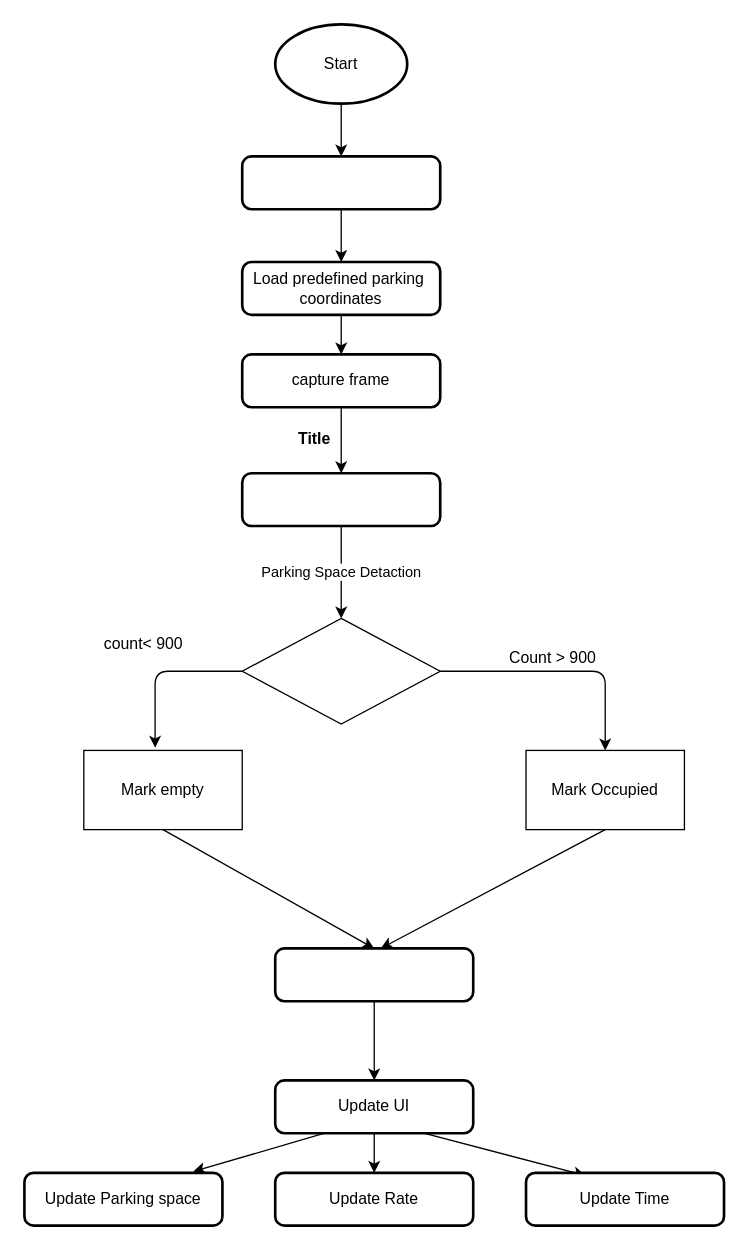
Image size: 747x1249. Some labels were removed from this diagram. Each missing label, with the centre of its shape:
"Camera connection" belongs at (340,182).
"CheckOccupancy" belongs at (340,670).
"processed each frame" belongs at (340,499).
"Update the Metrics" belongs at (373,974).
